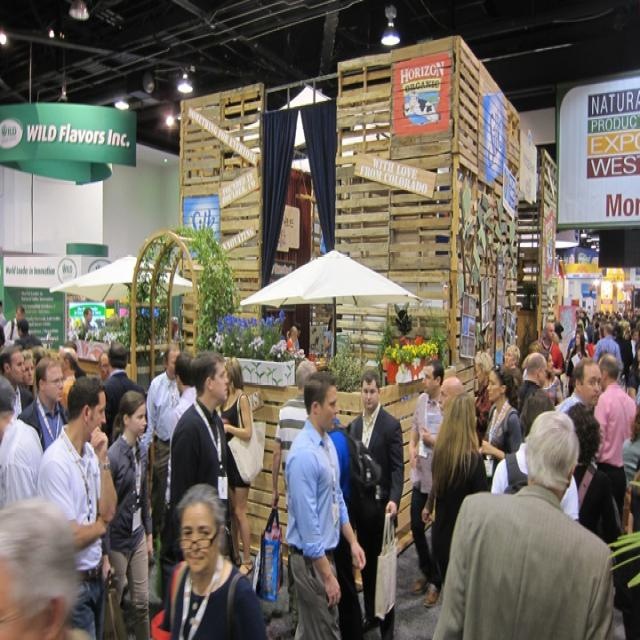body: (429, 407, 618, 639), (283, 366, 369, 639), (38, 375, 118, 631), (156, 479, 268, 640), (299, 389, 366, 640), (344, 370, 405, 638), (98, 388, 156, 640), (169, 349, 236, 565), (429, 389, 490, 591), (489, 390, 580, 522), (138, 339, 186, 570), (158, 350, 198, 602), (409, 357, 447, 609), (564, 401, 624, 547), (219, 353, 255, 578), (593, 352, 639, 528), (270, 357, 318, 512), (474, 362, 524, 497), (16, 354, 71, 456), (100, 340, 148, 450), (16, 371, 68, 453), (554, 357, 602, 416), (572, 302, 639, 344), (0, 342, 33, 418), (473, 349, 495, 450), (55, 344, 87, 406), (518, 350, 548, 415), (564, 327, 588, 400), (540, 318, 567, 376), (538, 348, 564, 407), (98, 312, 118, 386), (0, 296, 29, 345), (593, 321, 623, 366), (20, 344, 44, 399), (437, 375, 464, 421), (621, 326, 639, 394), (12, 316, 46, 352), (626, 343, 639, 416), (77, 306, 98, 342), (284, 323, 306, 357), (504, 342, 522, 368), (323, 316, 333, 360), (295, 321, 304, 350)
